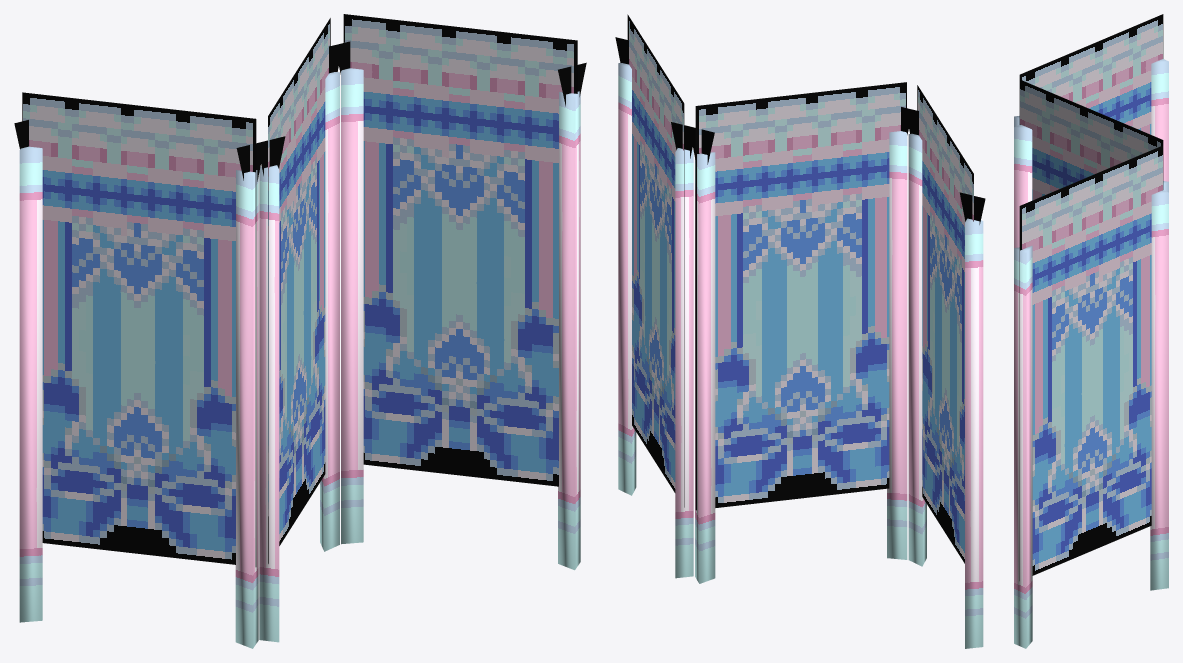
The picture shows the model from 3 angles, left to right: view 1: azimuth 30°, elevation 25°; view 2: azimuth 150°, elevation 25°; view 3: azimuth 270°, elevation 25°; orthographic projection. The views are drawn at different scales.
Visible parts, largest first — view 1: 3208kg_sh2_00; view 2: 3208kg_sh2_00; view 3: 3208kg_sh2_00.
Boxes of the visible parts, x1,y1,x2,y2 form: 3208kg_sh2_00: (14,14,586,648); 3208kg_sh2_00: (615,14,985,648); 3208kg_sh2_00: (1014,14,1168,648).
Bounding box in the file's own units: 1.92 × 1.96 × 0.6257.
1 material, 1 textured.
